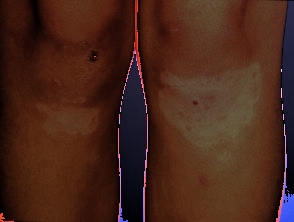vitiligo: (147, 54, 274, 183), (25, 87, 114, 148)
